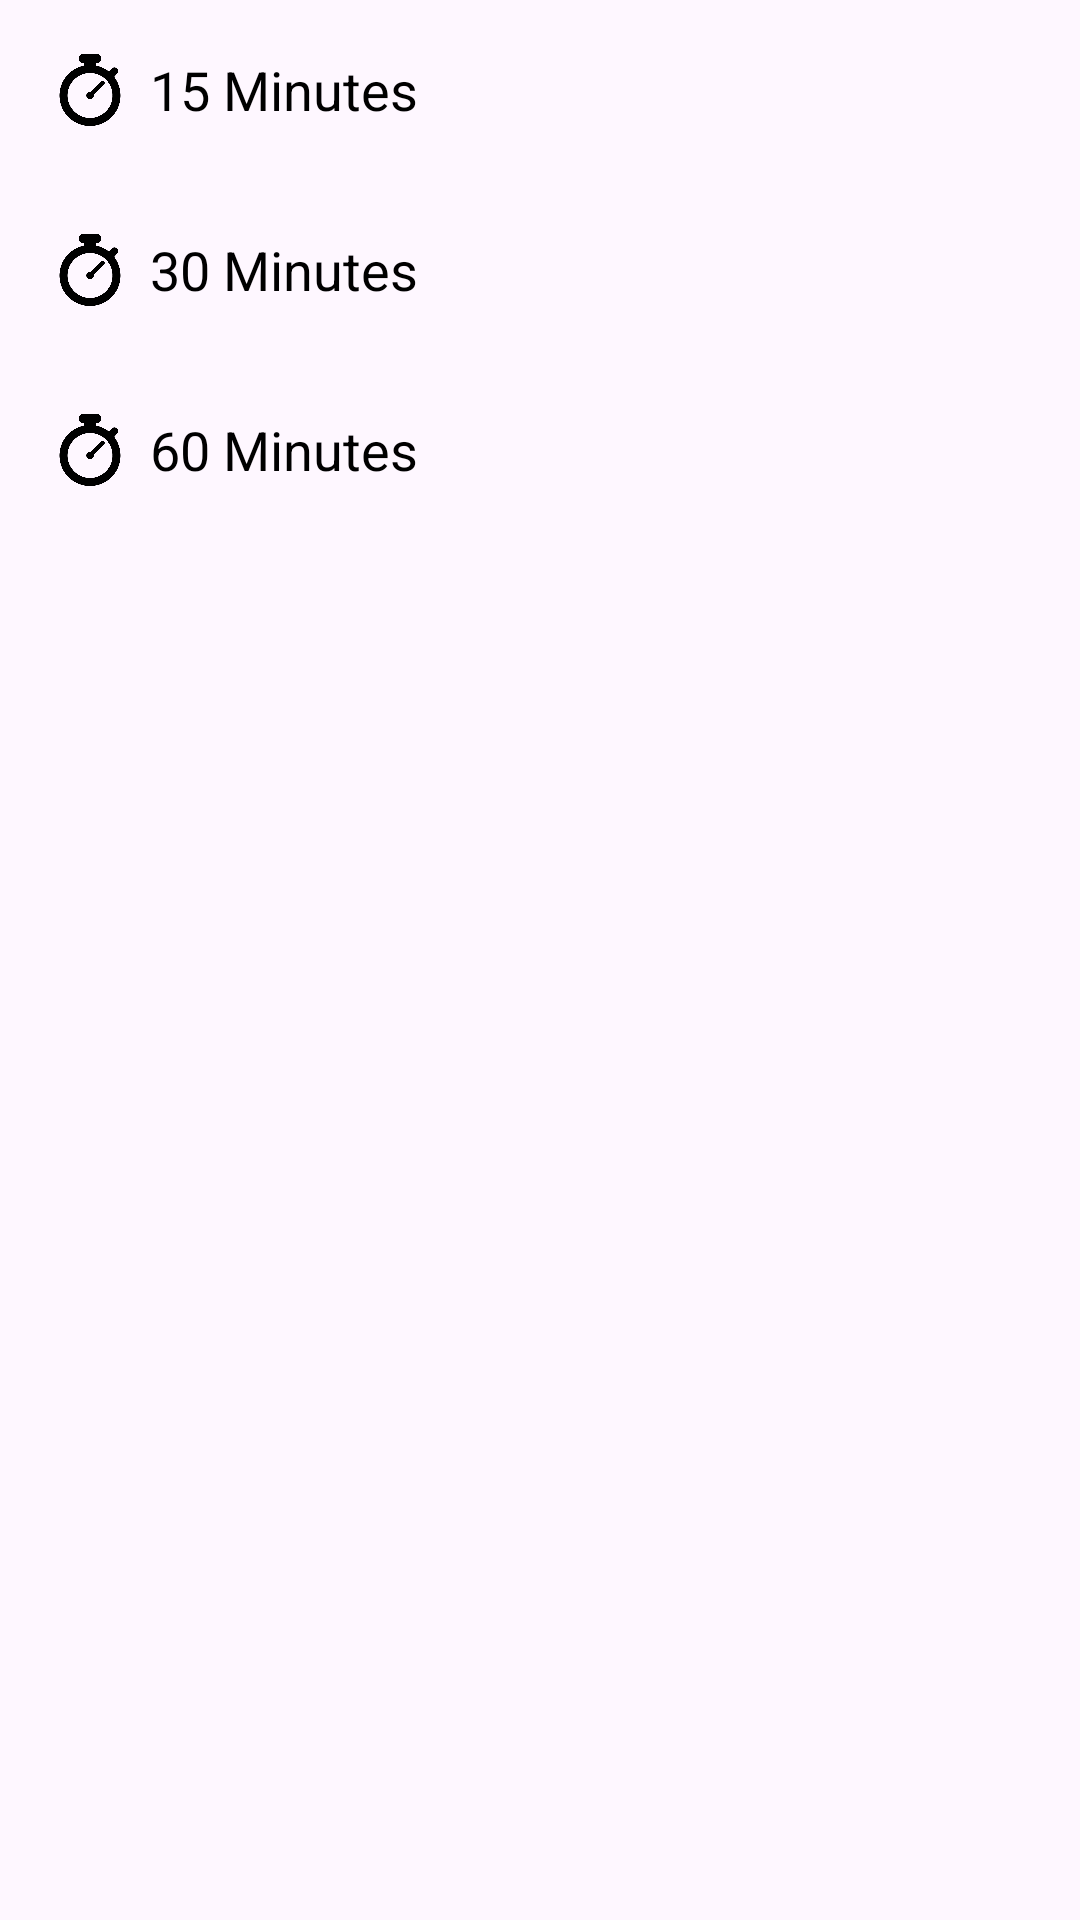

Screen size 1080w x 1920h. Icon name, then its box in pixels as box(x1, y1, x2, y2):
timer: box(59, 54, 121, 126), box(59, 234, 121, 306), box(59, 414, 121, 486)
